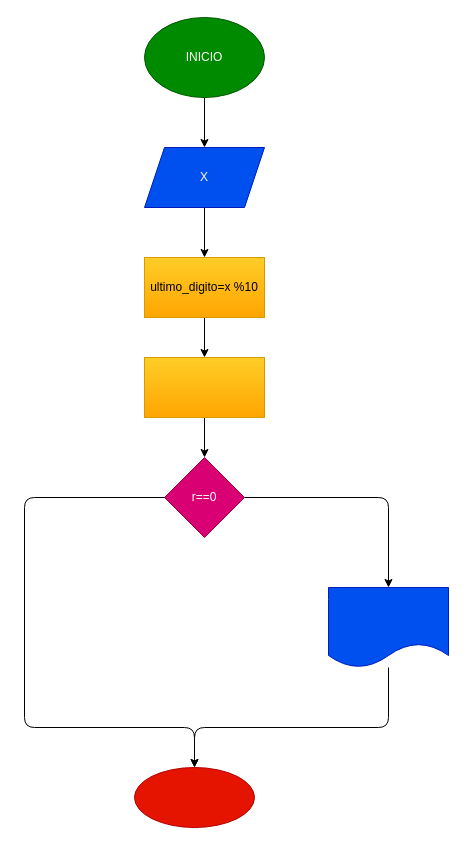
Some shapes in this 466 by 845 pixel diagram are drawn without their labels. Each missing label, with the centre of its shape:
"r=ultimo_digito%2" goes at (204,387).
"ultimo digito es PAR" goes at (388,627).
